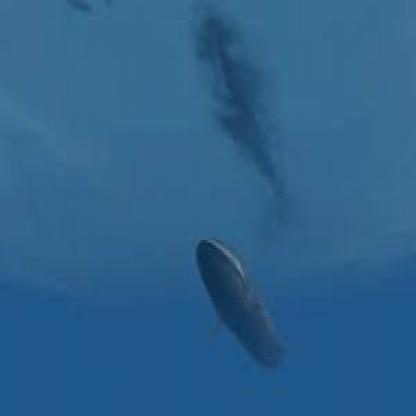blue_whale: (182, 198, 291, 381)
